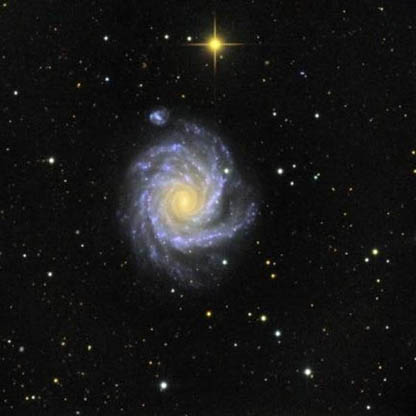Cassiopeia: (272, 65, 308, 128), (341, 207, 377, 248), (352, 323, 381, 353), (150, 86, 177, 114), (259, 177, 288, 201)
